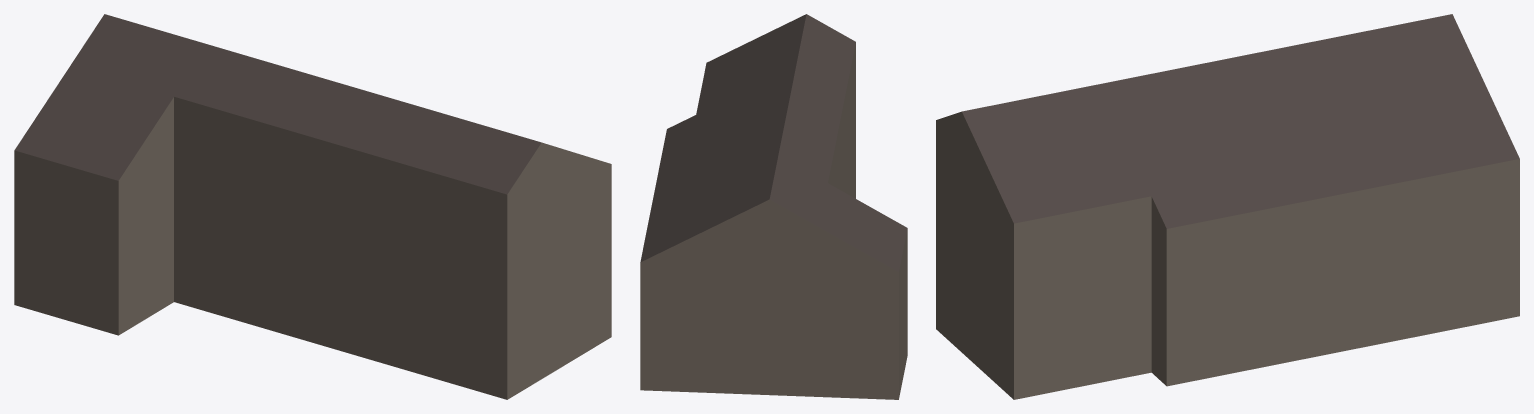
3 renders of one model, left to right at view 1: azimuth 30°, elevation 25°; view 2: azimuth 150°, elevation 25°; view 3: azimuth 270°, elevation 25°, orthographic. The views are drawn at different scales.
Visible parts, largest first — view 1: HP-w734452864; view 2: HP-w734452864; view 3: HP-w734452864.
Part boxes in pixels (x1=…): HP-w734452864: x1=14, y1=14, x2=611, y2=399; HP-w734452864: x1=640, y1=14, x2=907, y2=399; HP-w734452864: x1=936, y1=14, x2=1519, y2=399.
Size of the model in its own units: 25.27 by 13.78 by 30.25.
